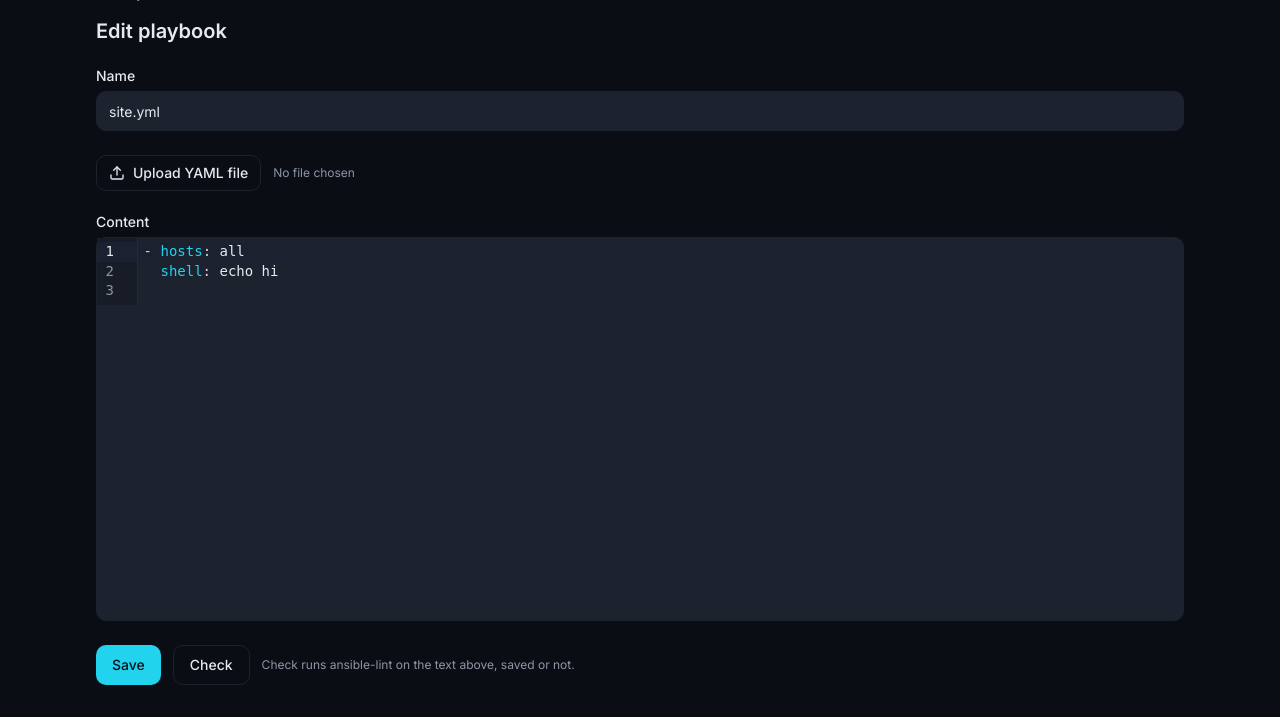
it: checking a playbook › shows a polling error
The width and height of the screenshot is (1280, 717).
(page scrolled)
Click the button "Check": (211, 665) top-left (173, 645), bottom-right (250, 685)
Wait 1100 ms
(page scrolled)
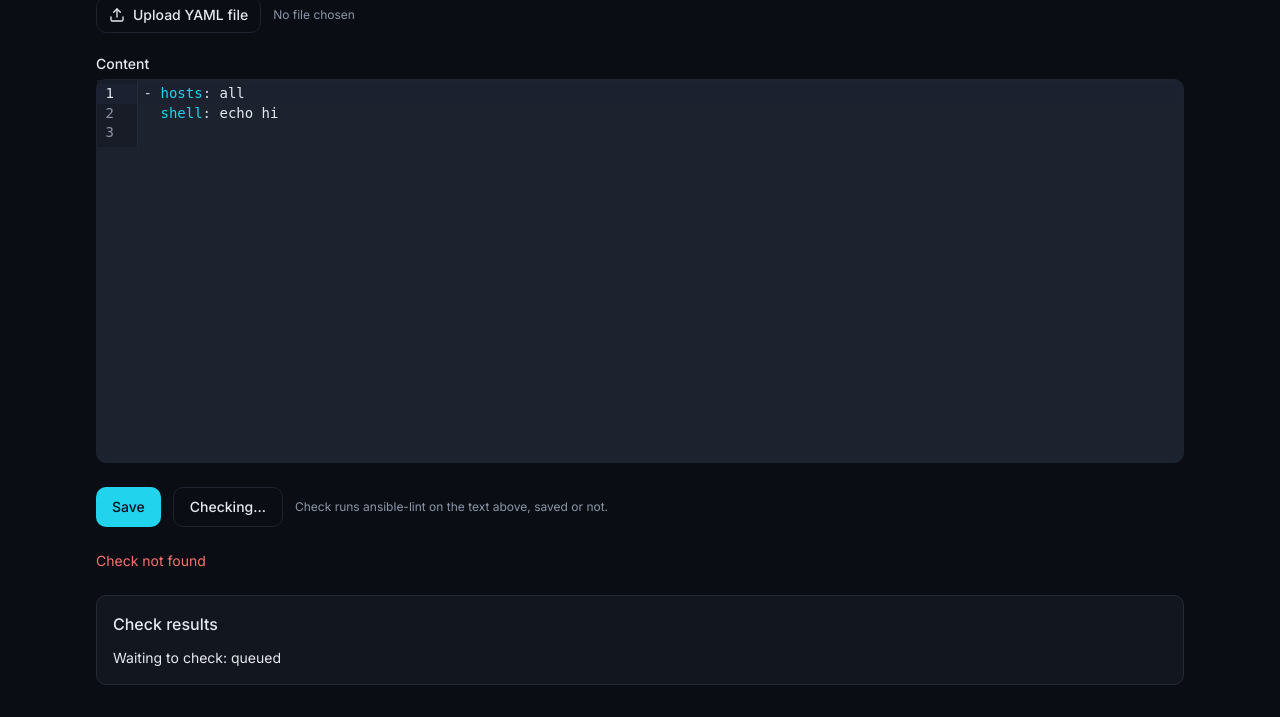
Expected: the text "Check not found" is shown, top-left (96, 552), bottom-right (206, 569)
